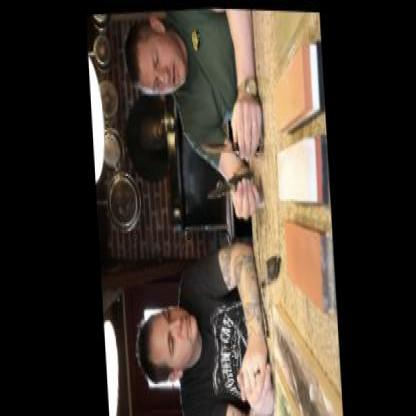knife: (191, 100, 246, 161), (199, 164, 250, 225)
